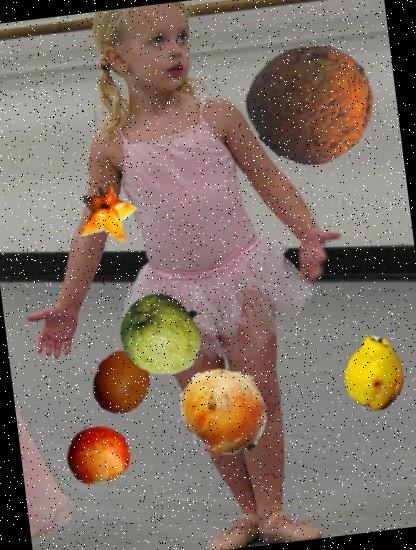Apricot: (85, 347, 157, 419)
Carambula: (73, 181, 143, 250)
Limes: (115, 287, 210, 382)
Nectarine: (62, 420, 132, 490)
Onion: (172, 360, 276, 465)
Quince: (333, 333, 416, 417)
Walnut: (243, 33, 382, 172)
